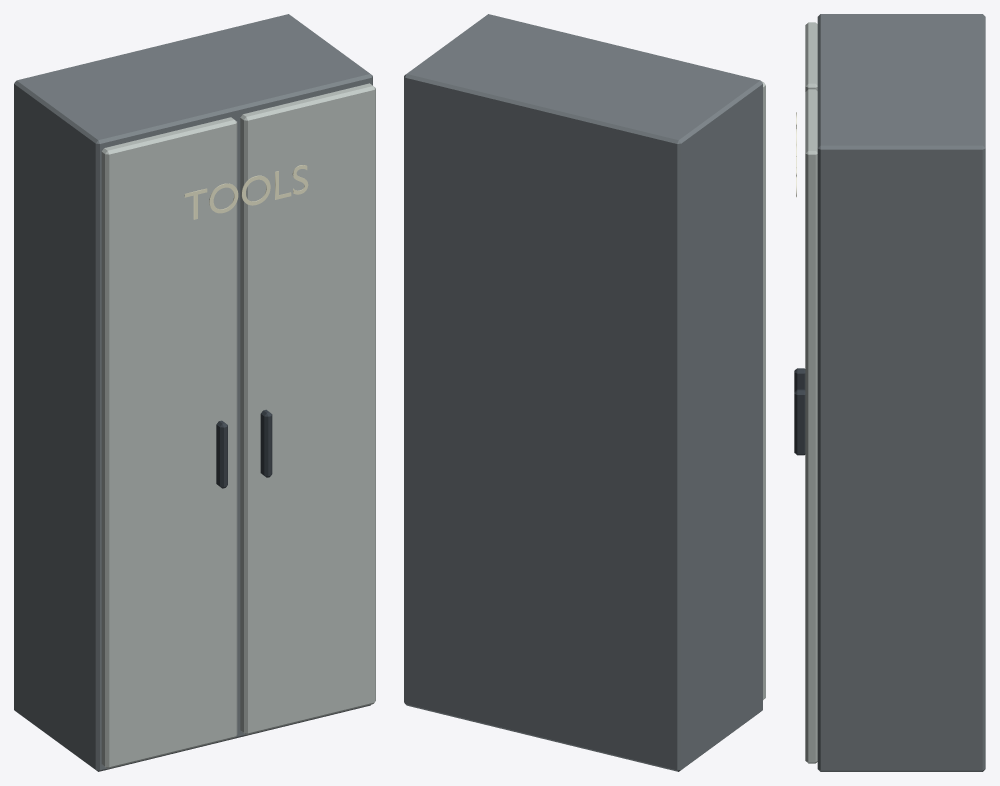
Rendered from ServiceLockerTall.fbx.
3 renders of one model, left to right at view 1: azimuth 30°, elevation 25°; view 2: azimuth 150°, elevation 25°; view 3: azimuth 270°, elevation 25°, orthographic.
Visible parts, largest first — view 1: ServiceLockerTall; view 2: ServiceLockerTall; view 3: ServiceLockerTall.
Part boxes in pixels (<box>): ServiceLockerTall: <box>14,14,375,771</box>; ServiceLockerTall: <box>404,14,765,771</box>; ServiceLockerTall: <box>794,14,985,771</box>.
Size of the model in its own units: 85 by 185 by 51.25.
Materials: 1 (1 with a texture image).
